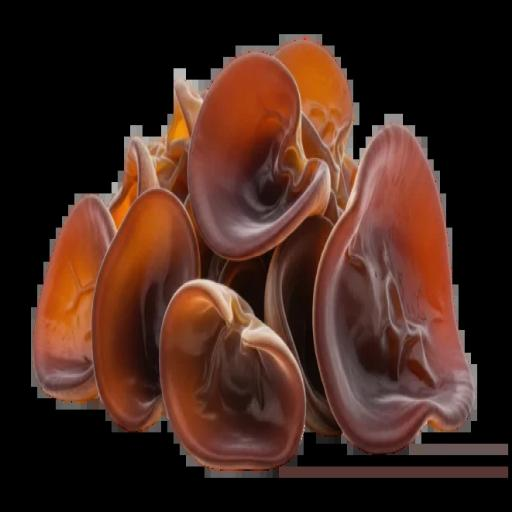Wood Ear Mushroom: (313, 118, 480, 446), (155, 266, 309, 469), (186, 54, 327, 264), (93, 183, 202, 445), (263, 216, 360, 463), (28, 191, 121, 427)
